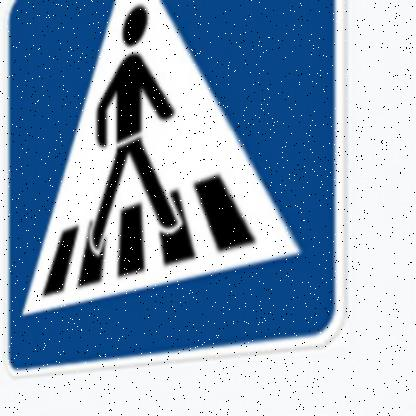Pedestrian Crossing: (4, 1, 350, 379)
